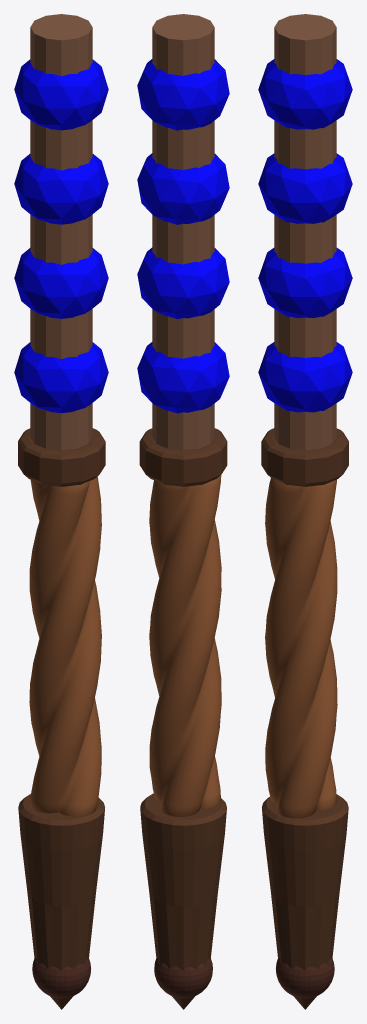
Rendered from Wand 833.glb.
The picture shows the model from 3 angles, left to right: view 1: azimuth 90°, elevation 25°; view 2: azimuth 150°, elevation 25°; view 3: azimuth 270°, elevation 25°; orthographic projection.
Visible parts, largest first — view 1: GeneratedWand; view 2: GeneratedWand; view 3: GeneratedWand.
Part boxes in pixels (<box>): GeneratedWand: <box>14,14,108,1009</box>; GeneratedWand: <box>137,14,229,1009</box>; GeneratedWand: <box>258,14,352,1009</box>.
Size of the model in its own units: 0.0407 by 0.4917 by 0.0428.
